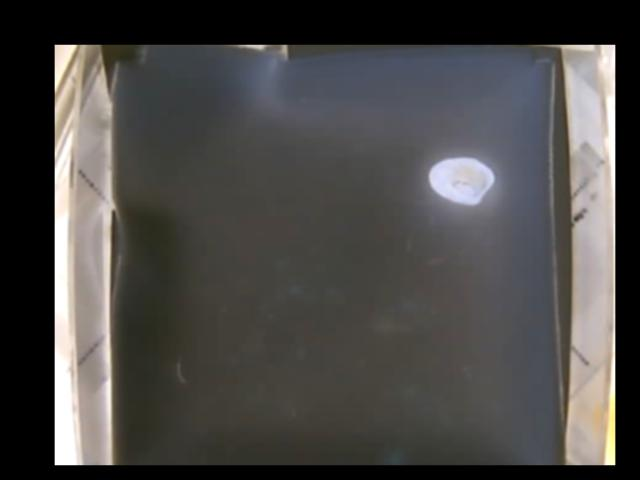Pebble: (429, 155, 496, 205)
